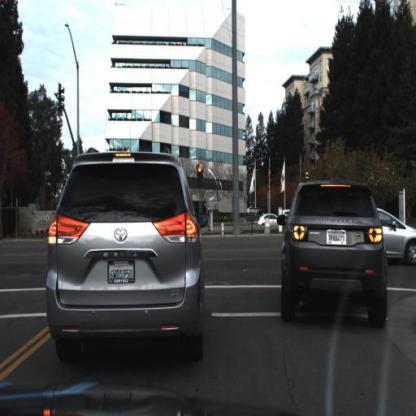car: (48, 146, 214, 366), (270, 166, 388, 330), (338, 206, 416, 269), (260, 215, 290, 233)
trafficLight: (195, 161, 206, 191)
trafficLight-Red: (194, 151, 209, 200)
